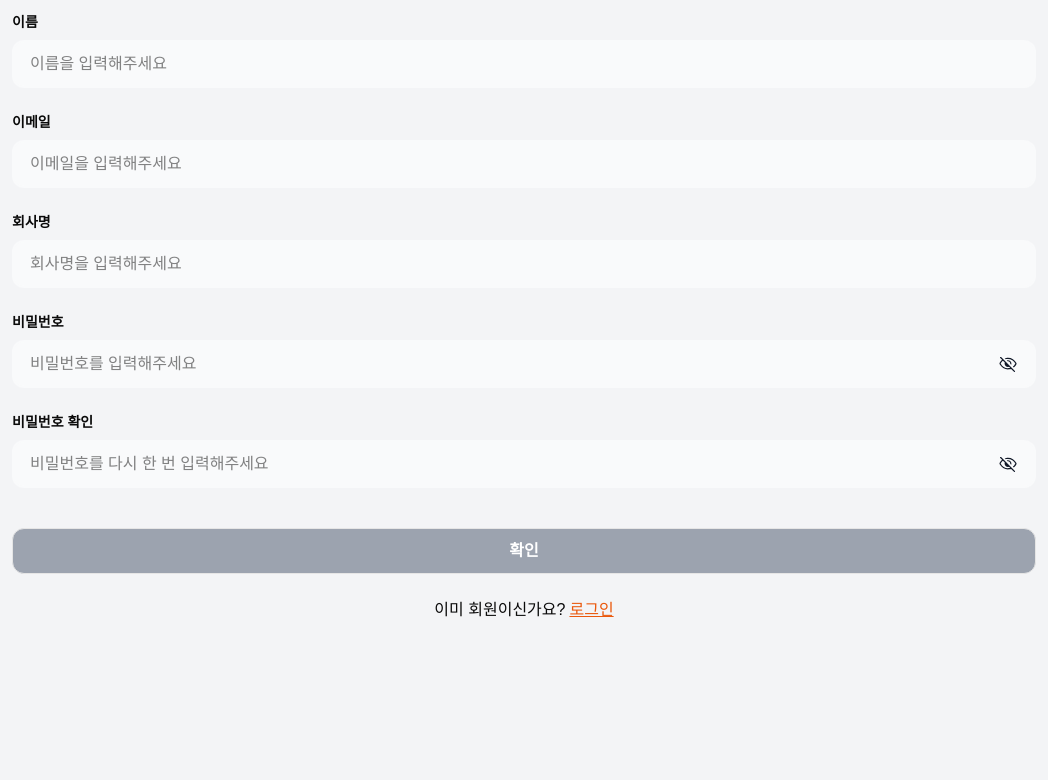
Test case: SignupForm 통합 테스트 › 이름을 입력하지 않으면 "이름을 입력해 주세요"라는 에러 메시지가 표시된다 › 1초간 입력 없음 (debounce)
The width and height of the screenshot is (1048, 780).
Focus the field labelled "이름": (524, 64) [30,52,1018,76]
Wait 1000 ms
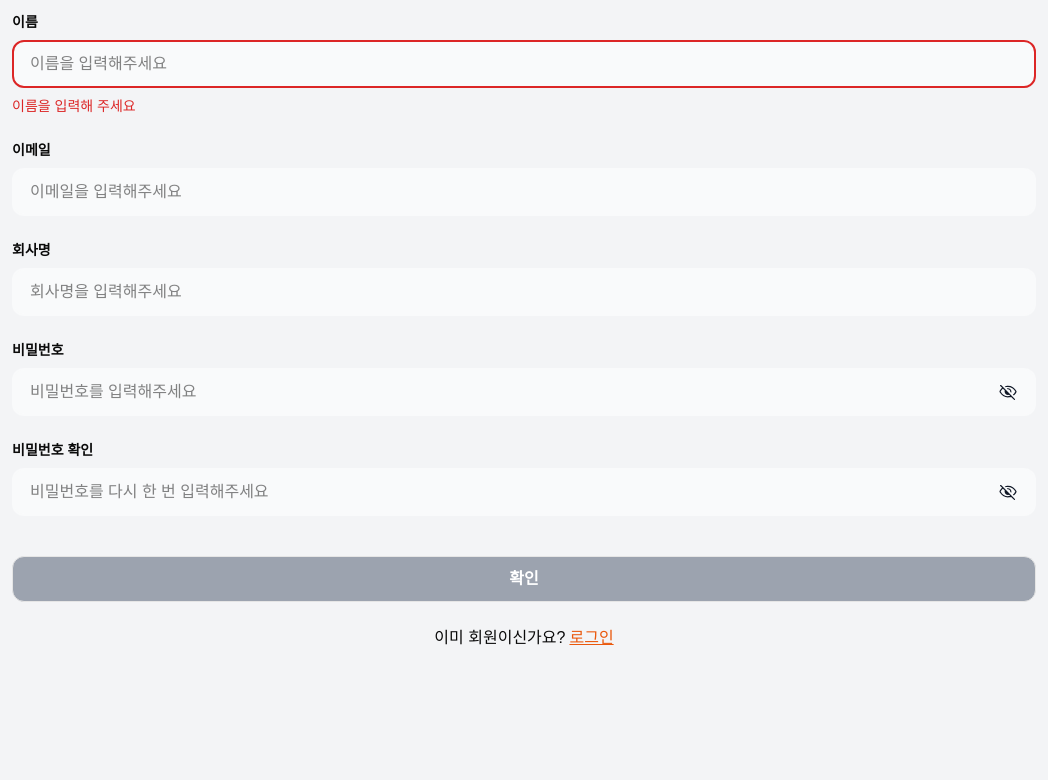
Check: the text "이름을 입력해 주세요" is shown, box [12,98,136,114]
